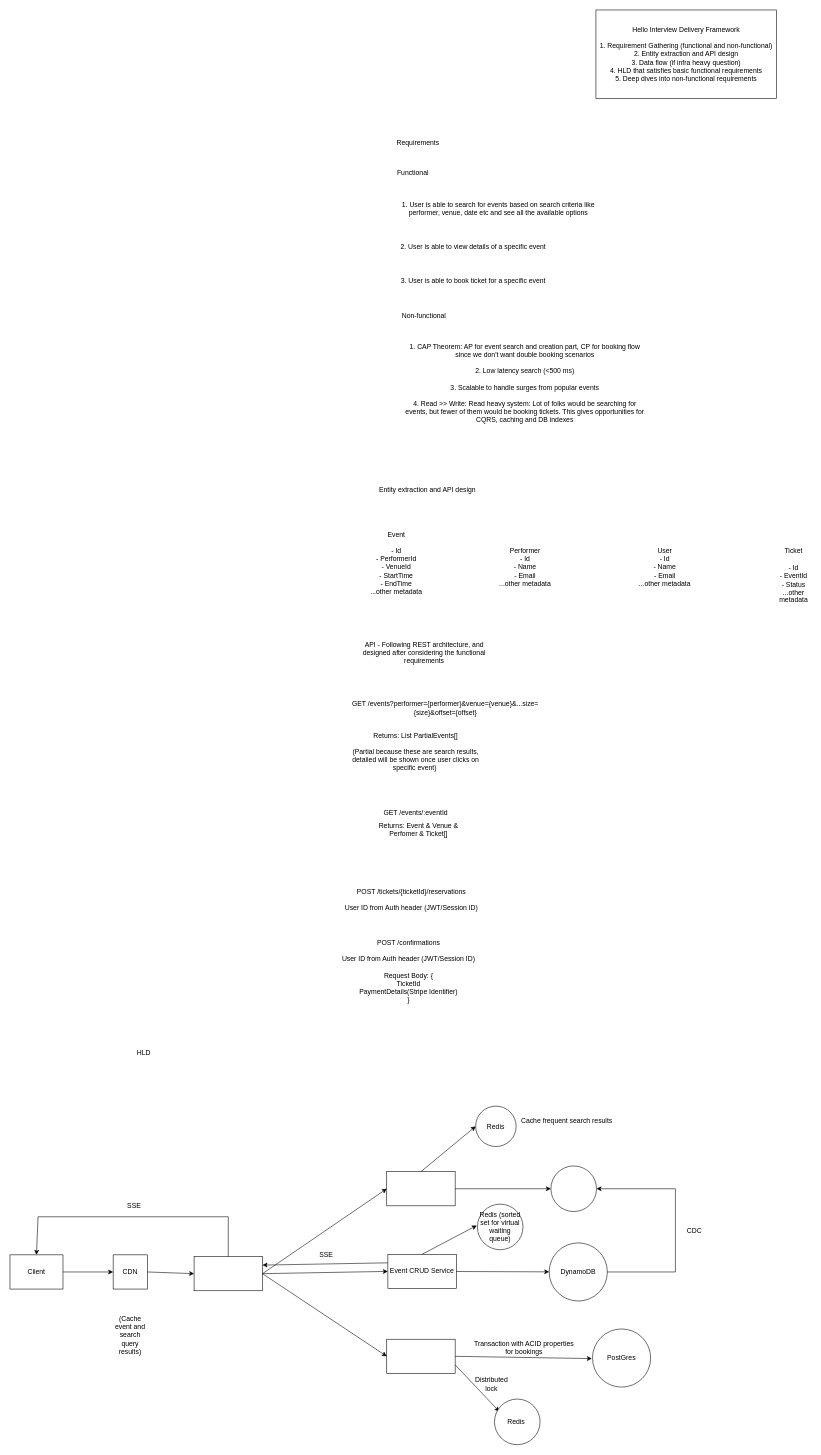
The diagram is 821 pixels wide and 1455 high, and some of its shapes have lost their labels. The shapes that lost their labels are listed below. From the top down, each one's box as (x1, y1, x2, y2) in pixels, then its label:
(386, 1171, 455, 1206): Search Service
(550, 1165, 597, 1212): ElasticSearch
(194, 1256, 262, 1291): API Gateway - Routing - Authentication & Authorization
(386, 1339, 455, 1373): Booking Service
